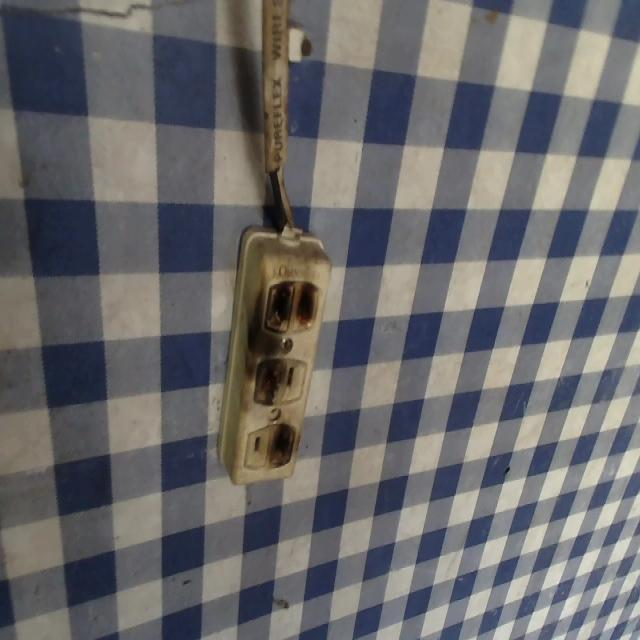-: (261, 277, 321, 335), (251, 360, 286, 407), (266, 420, 294, 468)
